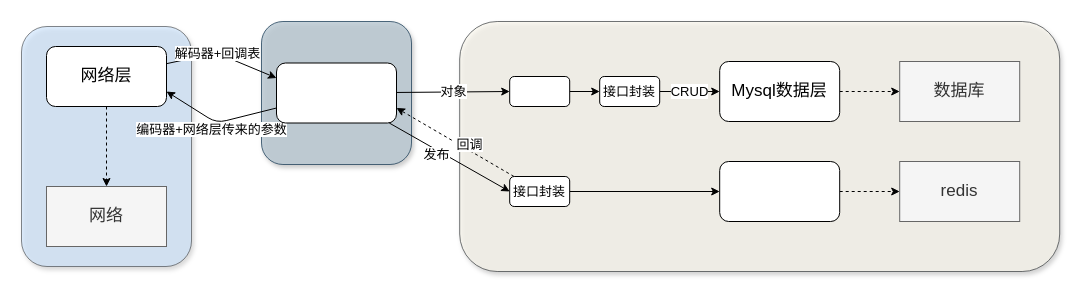
Some shapes in this 1084 by 296 pixel diagram are drawn without their labels. Each missing label, with the centre of its shape:
ORM: point 539,91
Redis数据层: point 779,191
业务层: point 336,92
